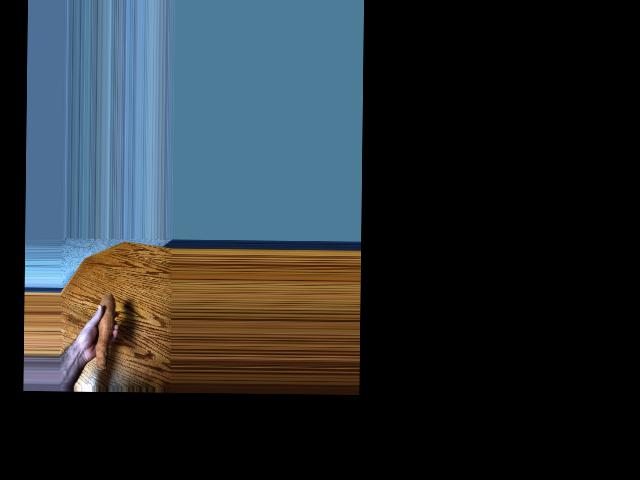sweet_potato: (91, 289, 115, 371)
